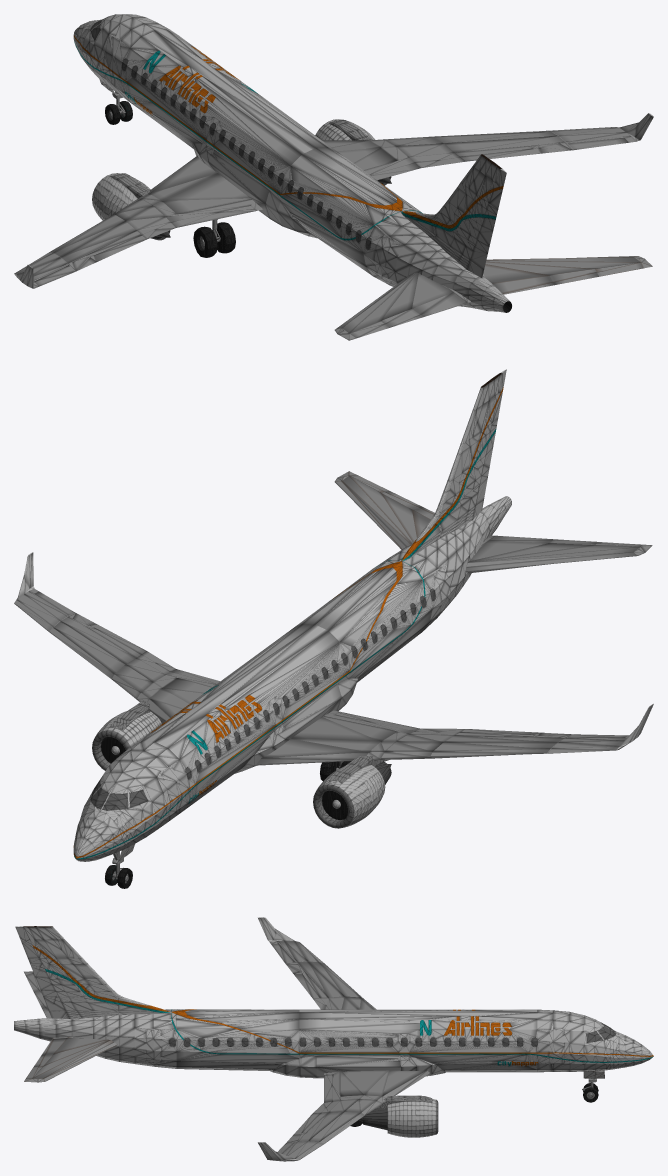
3 views of the same model, one above another, from view 1: azimuth 30°, elevation 25°; view 2: azimuth 150°, elevation 25°; view 3: azimuth 270°, elevation 25° (orthographic). The views are drawn at different scales.
Visible parts, largest first — view 1: world; view 2: world; view 3: world.
Part boxes in pixels (x1,y1,x2,y2): world: (14,14,653,340); world: (14,369,653,888); world: (14,917,653,1161).
Size of the model in its own units: 0.9908 by 0.3555 by 1.19.
Materials: 1 (1 with a texture image).
